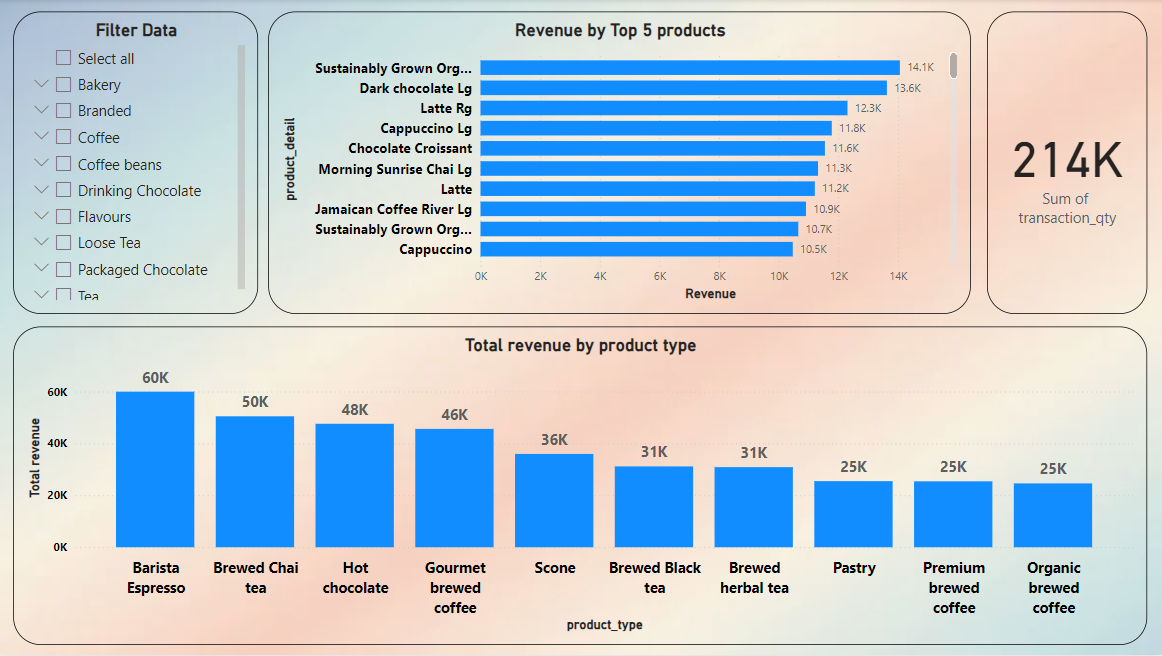

Layout of this report page (visuals, bound fields, positions):
{"tool":"powerbi","page":{"name":"Page 2","canvas":[1280,720],"ordinal":1},"visuals":[{"type":"columnChart","title":"Total revenue by product type","fields":{"Category":["Transactions.product_type"],"Y":["Sum(Transactions.unit_price)"]},"box":[17.8,359.5,1244.6,349.9],"z":0},{"type":"slicer","title":"Filter Data","fields":{"Values":["Transactions.product_category","Transactions.product_type","Transactions.product_detail"]},"box":[17.8,13.7,269,332.1],"z":1000},{"type":"clusteredBarChart","title":"Revenue by Top 5 products","fields":{"Category":["Transactions.product_detail"],"Y":["Sum(Transactions.unit_price)"]},"box":[297.8,13.7,771.2,332.1],"z":2000},{"type":"card","fields":{"Values":["Sum(Transactions.transaction_qty)"]},"box":[1086.8,13.7,175.6,332.1],"z":3000}]}

Visuals, with their boxes in screenshot pixels (x1, y1, x2, y2), scaled from the page's 1280x720 canvas onto the 1162x656 screenshot:
"Total revenue by product type" columnChart: <bbox>16, 328, 1146, 646</bbox>
"Filter Data" slicer: <bbox>16, 12, 260, 315</bbox>
"Revenue by Top 5 products" clusteredBarChart: <bbox>270, 12, 970, 315</bbox>
card - Sum(Transactions.transaction_qty): <bbox>987, 12, 1146, 315</bbox>
